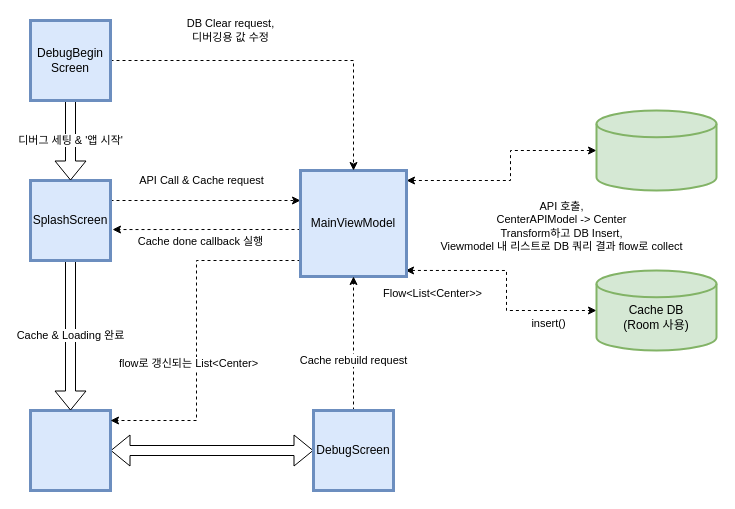
The diagram is 735 pixels wide and 509 high, and some of its shapes have lost their labels. Here are the shapes that lost their labels. From the top down, the centre of each, then its label:
At [656,150]: "예방접종센터 API (Retrofit2 사용)".
At [70,450]: "MapScreen".
